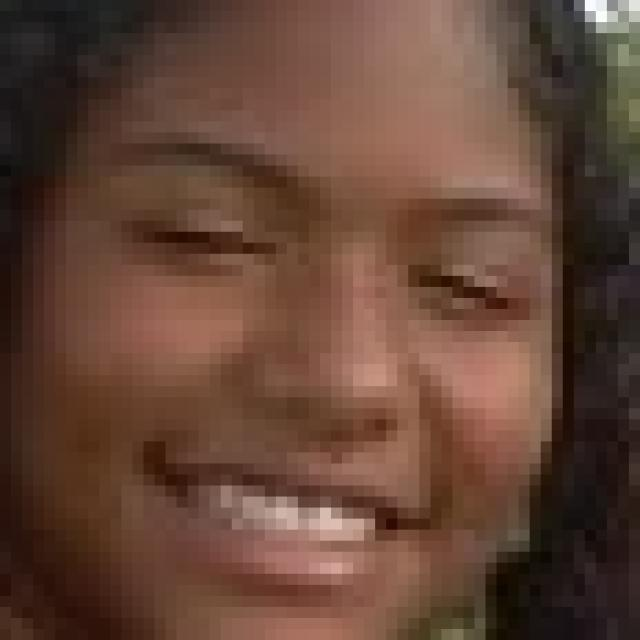Eyeclosed: (138, 209, 268, 269), (404, 258, 517, 322)
